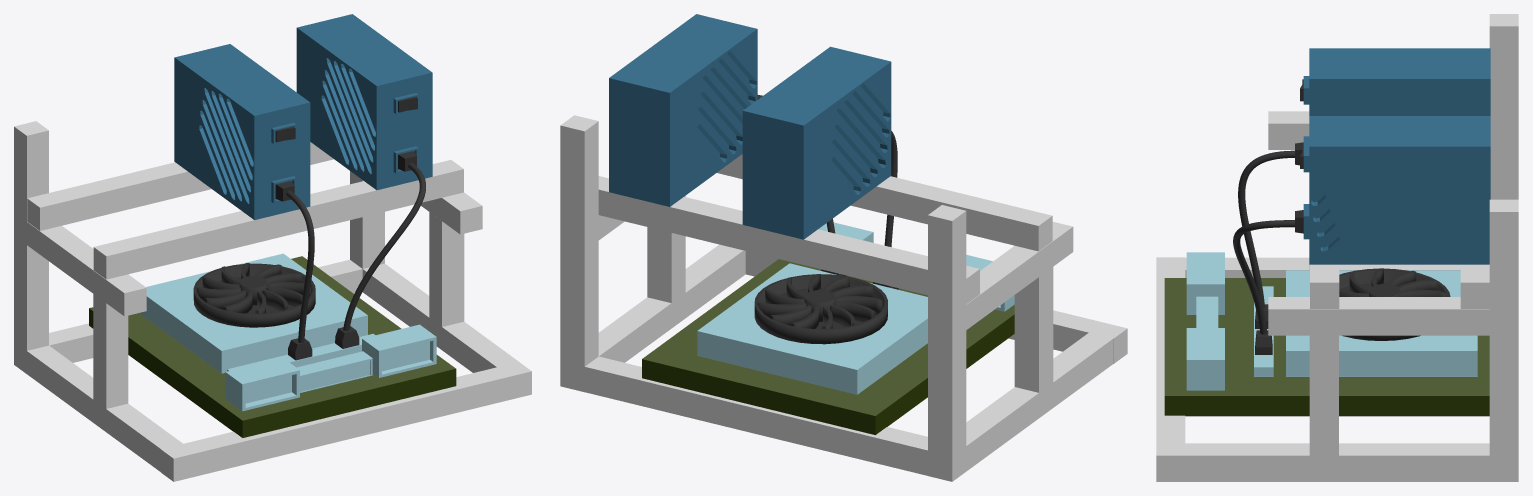
The model's file is cryptofarm_tier4.fbx.
3 views of the same model, side by side, from view 1: azimuth 30°, elevation 25°; view 2: azimuth 150°, elevation 25°; view 3: azimuth 270°, elevation 25° (orthographic). The views are drawn at different scales.
Parts seen in each view (by area): view 1: Cube.012, Cube.014, Cube.010, Cube, Cube.001, Cylinder.001, Cube.002, Cube.003, Cylinder, Cube.004, cable, cable.001 (+1 smaller); view 2: Cube.012, Cube.014, Cube.010, Cube, Cube.001, Cylinder.001, Cylinder; view 3: Cube.012, Cube.010, Cube, Cube.014, Cube.001, Cube.003, Cube.002, Cylinder.001, cable.001, Cylinder, cable, Cube.005 (+2 smaller).
Boxes of the visible parts, x1,y1,x2,y2 form: Cube.012: [14, 121, 531, 481]; Cube.014: [174, 44, 310, 220]; Cube.010: [296, 14, 432, 190]; Cube: [89, 256, 456, 437]; Cube.001: [139, 253, 367, 373]; Cylinder.001: [196, 263, 311, 313]; Cube.002: [225, 358, 299, 411]; Cube.003: [362, 324, 436, 377]; Cylinder: [193, 263, 315, 327]; Cube.004: [296, 351, 372, 392]; cable: [343, 162, 425, 330]; cable.001: [286, 190, 314, 342]; Cube.012: [560, 115, 1127, 481]; Cube.014: [742, 46, 891, 239]; Cube.010: [609, 14, 757, 206]; Cube: [642, 259, 1014, 434]; Cube.001: [697, 263, 927, 394]; Cylinder.001: [757, 274, 882, 328]; Cylinder: [754, 274, 887, 344]; Cube.012: [1156, 14, 1518, 481]; Cube.010: [1303, 116, 1490, 264]; Cube: [1164, 278, 1489, 416]; Cube.014: [1303, 48, 1490, 143]; Cube.001: [1286, 270, 1477, 376]; Cube.003: [1186, 328, 1224, 390]; Cube.002: [1186, 252, 1224, 314]; Cylinder.001: [1339, 268, 1446, 296]; cable.001: [1238, 150, 1294, 308]; Cylinder: [1339, 268, 1450, 340]; cable: [1233, 220, 1294, 334]; Cube.005: [1254, 286, 1273, 376].
Size of the model in its own units: 2.16 by 1.61 by 1.67.
